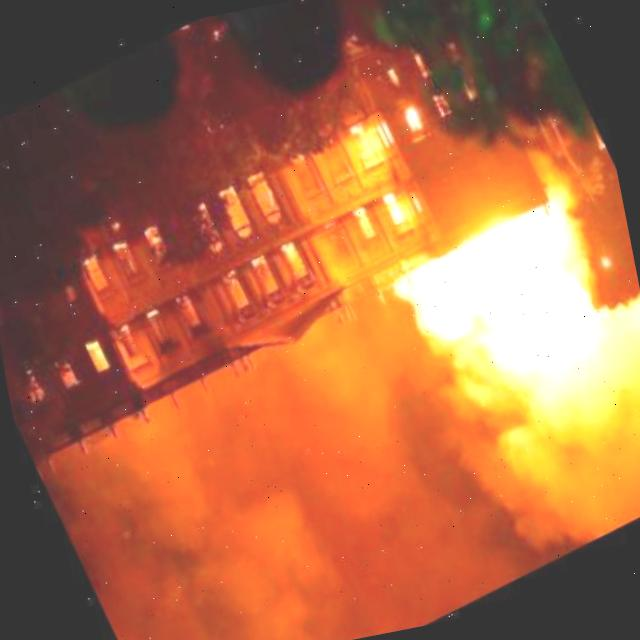fire: (371, 179, 632, 397), (370, 183, 407, 237), (341, 124, 379, 172), (386, 98, 423, 145), (344, 204, 379, 247), (207, 258, 241, 295), (275, 231, 304, 265), (242, 245, 271, 277)
